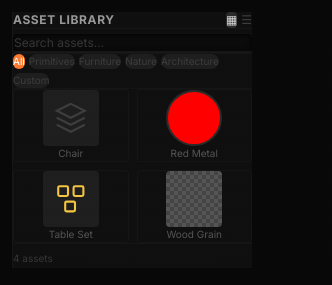
AssetBrowserPanel › search filters assets
Step 1. Type "Chair" into the field labelled "Search assets" → (132, 43), box left=13, top=34, right=252, bottom=52
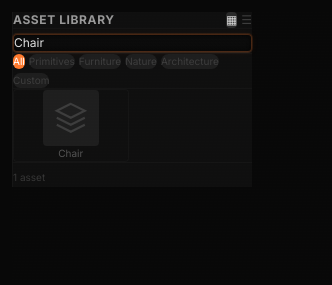
Expected: the button with aria-label "Chair (mesh)" is shown, left=13, top=89, right=128, bottom=162
Expected: the text "1 asset" is shown, left=13, top=171, right=45, bottom=183
